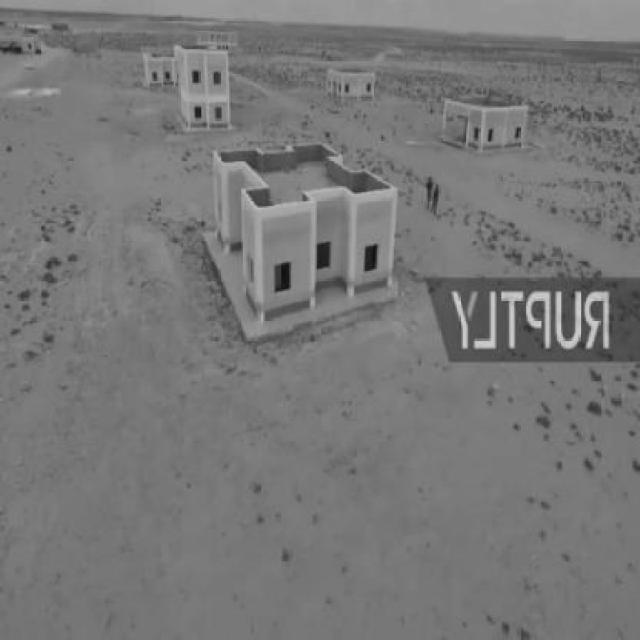Person: (426, 172, 437, 208), (434, 182, 443, 215)
